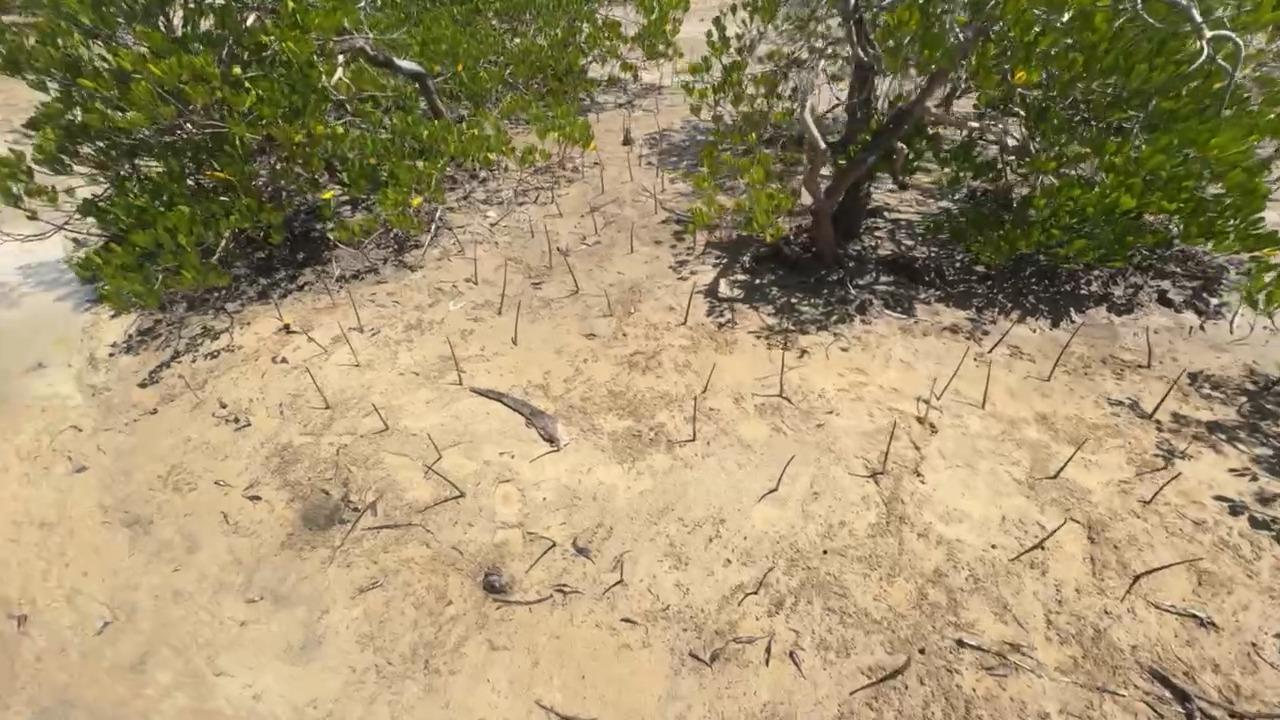Tree: (1048, 321, 1086, 382), (1149, 367, 1186, 420), (937, 345, 970, 402), (422, 464, 467, 497), (1139, 556, 1206, 578), (1056, 438, 1089, 479), (1147, 471, 1183, 505), (336, 320, 360, 367), (304, 365, 330, 408), (987, 320, 1017, 353), (446, 336, 463, 386), (882, 417, 896, 474), (776, 454, 797, 491), (347, 286, 363, 333), (299, 326, 327, 352), (924, 378, 937, 428), (318, 273, 336, 306), (981, 360, 993, 409), (683, 280, 696, 325), (564, 256, 580, 292), (370, 401, 389, 429), (499, 257, 507, 315), (269, 292, 284, 322), (426, 433, 443, 458), (703, 362, 716, 393), (514, 300, 521, 346), (545, 224, 552, 268), (589, 200, 598, 234), (1145, 325, 1152, 367), (1069, 516, 1089, 530), (553, 193, 563, 218), (603, 289, 612, 315), (692, 396, 697, 442), (630, 220, 636, 254), (627, 150, 633, 182), (474, 240, 478, 285), (539, 535, 556, 544), (600, 166, 605, 194), (781, 350, 784, 394), (653, 183, 657, 214), (660, 166, 665, 190), (919, 643, 928, 656), (620, 560, 625, 582), (529, 215, 534, 237), (639, 143, 642, 168)
